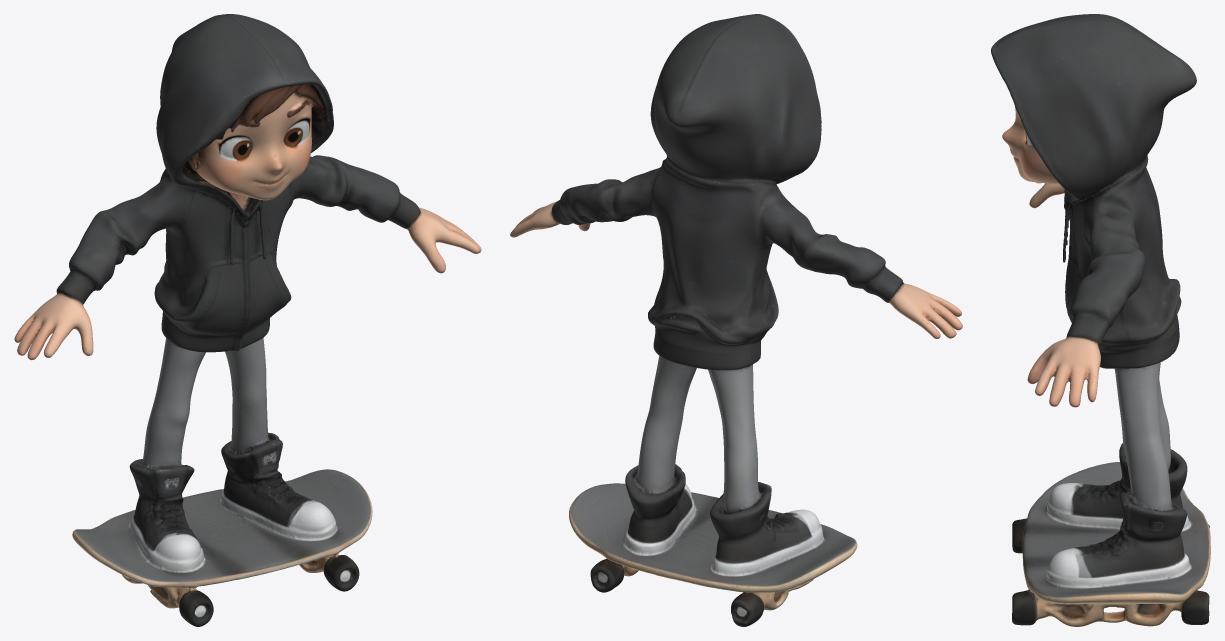
Rendered from player_game.glb.
The picture shows the model from 3 angles, left to right: view 1: azimuth 30°, elevation 25°; view 2: azimuth 150°, elevation 25°; view 3: azimuth 270°, elevation 25°; orthographic projection. The views are drawn at different scales.
Bounding box in the file's own units: 1.7 × 2 × 0.7012.
Materials: 1 (1 with a texture image).
